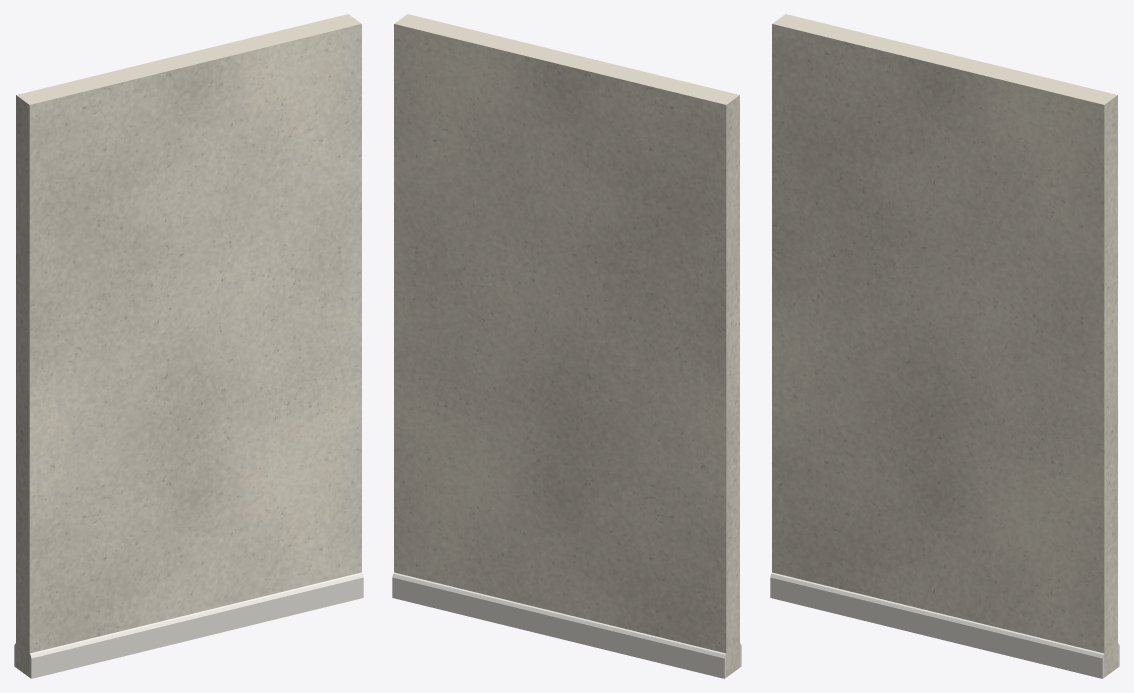
File: interior_wall_end.glb
3 views of the same model, side by side, from view 1: azimuth 30°, elevation 25°; view 2: azimuth 150°, elevation 25°; view 3: azimuth 330°, elevation 25° (orthographic).
Parts seen in each view (by area): view 1: interior_wall_end_plaster, interior_wall_end_trim; view 2: interior_wall_end_plaster, interior_wall_end_trim; view 3: interior_wall_end_plaster, interior_wall_end_trim.
Part boxes in pixels (box(x1,y1,x2,y2)): interior_wall_end_plaster: box(16, 14, 361, 677); interior_wall_end_trim: box(14, 572, 363, 678); interior_wall_end_plaster: box(394, 14, 739, 677); interior_wall_end_trim: box(392, 572, 741, 678); interior_wall_end_plaster: box(772, 14, 1117, 677); interior_wall_end_trim: box(770, 572, 1119, 678).
Size of the model in its own units: 1.7 by 2.8 by 0.152.
2 materials, 1 textured.
